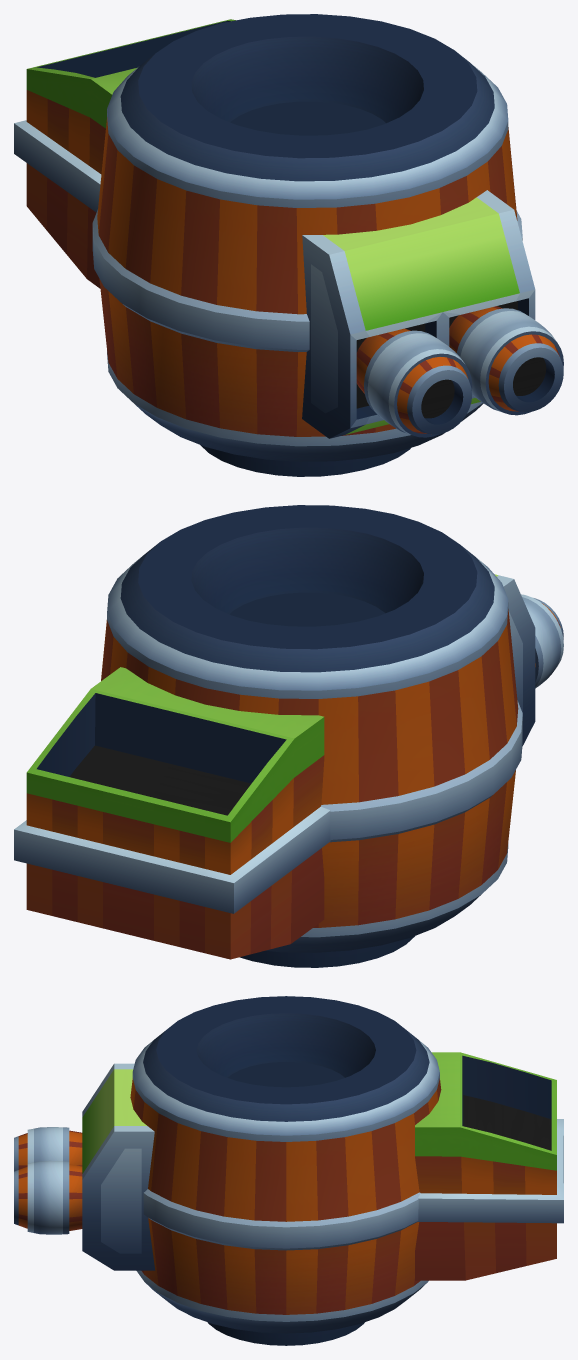
File: TrashShooter.fbx
3 views of the same model, one above another, from view 1: azimuth 30°, elevation 25°; view 2: azimuth 150°, elevation 25°; view 3: azimuth 270°, elevation 25° (orthographic). The views are drawn at different scales.
Parts seen in each view (by area): view 1: TrashShooter; view 2: TrashShooter; view 3: TrashShooter.
Boxes of the visible parts, box(x1,y1,x2,y2) form: TrashShooter: box(14, 14, 563, 476); TrashShooter: box(14, 505, 563, 967); TrashShooter: box(14, 996, 563, 1345).
Size of the model in its own units: 488 by 430 by 828.
